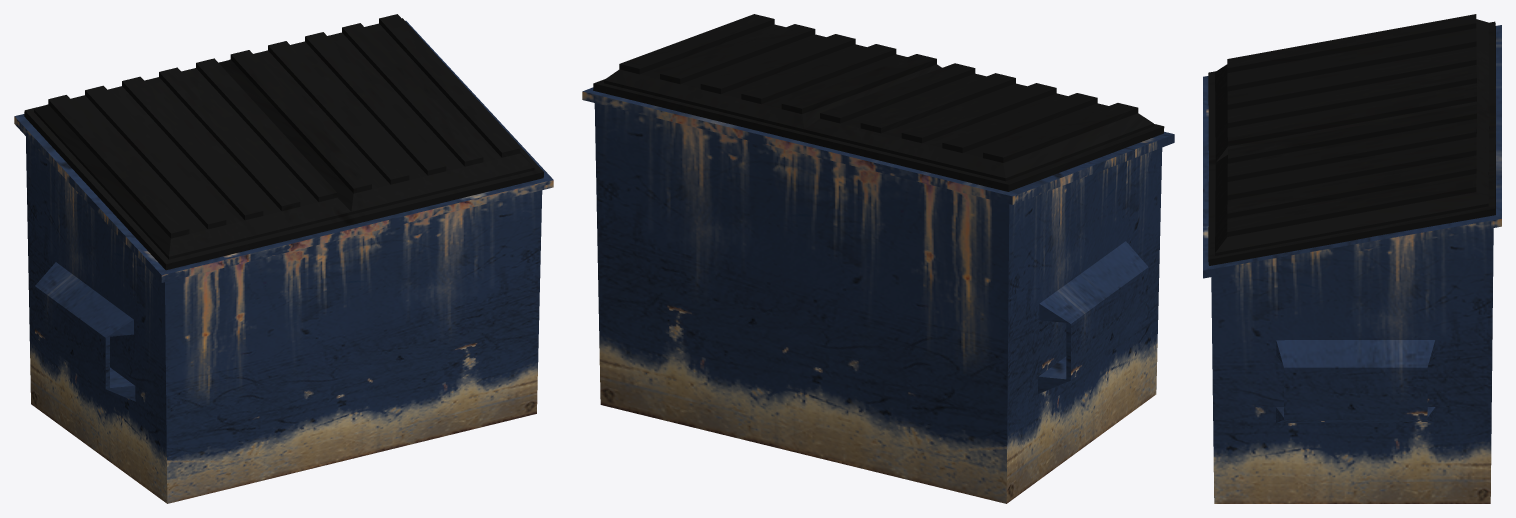
Rendered from GarbageBin_Blue.fbx.
3 renders of one model, left to right at view 1: azimuth 30°, elevation 25°; view 2: azimuth 150°, elevation 25°; view 3: azimuth 270°, elevation 25°, orthographic. The views are drawn at different scales.
Visible parts, largest first — view 1: GarbageBin_Blue; view 2: GarbageBin_Blue; view 3: GarbageBin_Blue.
Boxes of the visible parts, left/top/right/bottom form: GarbageBin_Blue: left=14, top=14, right=553, bottom=503; GarbageBin_Blue: left=582, top=14, right=1174, bottom=503; GarbageBin_Blue: left=1203, top=14, right=1501, bottom=503.
Size of the model in its own units: 7.78 by 5.39 by 4.68.
